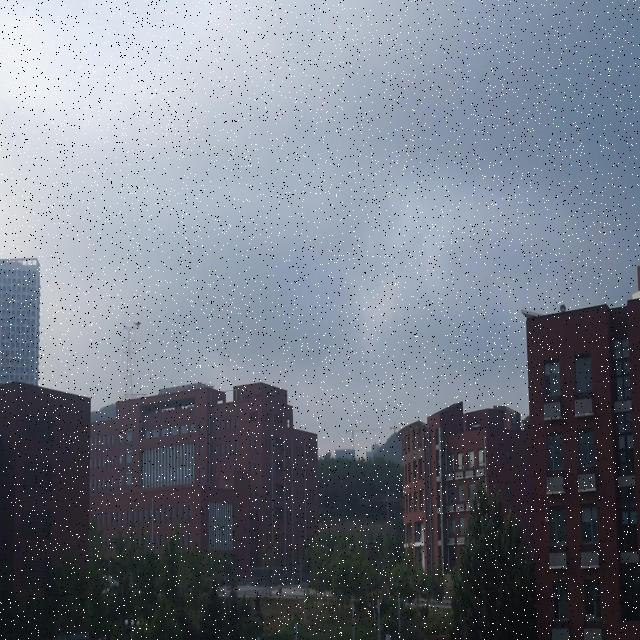UAV: (133, 321, 141, 328)
